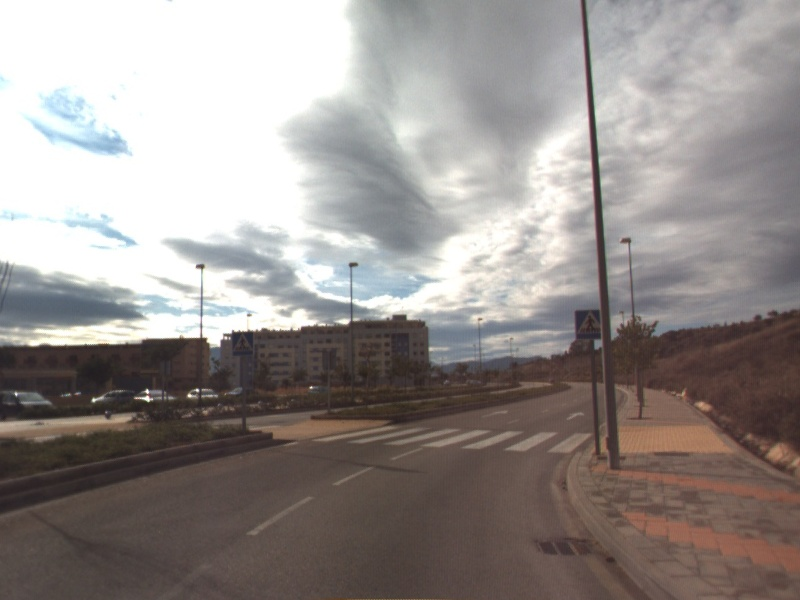STRAIGHT: (479, 408, 510, 420), (564, 409, 587, 422)
